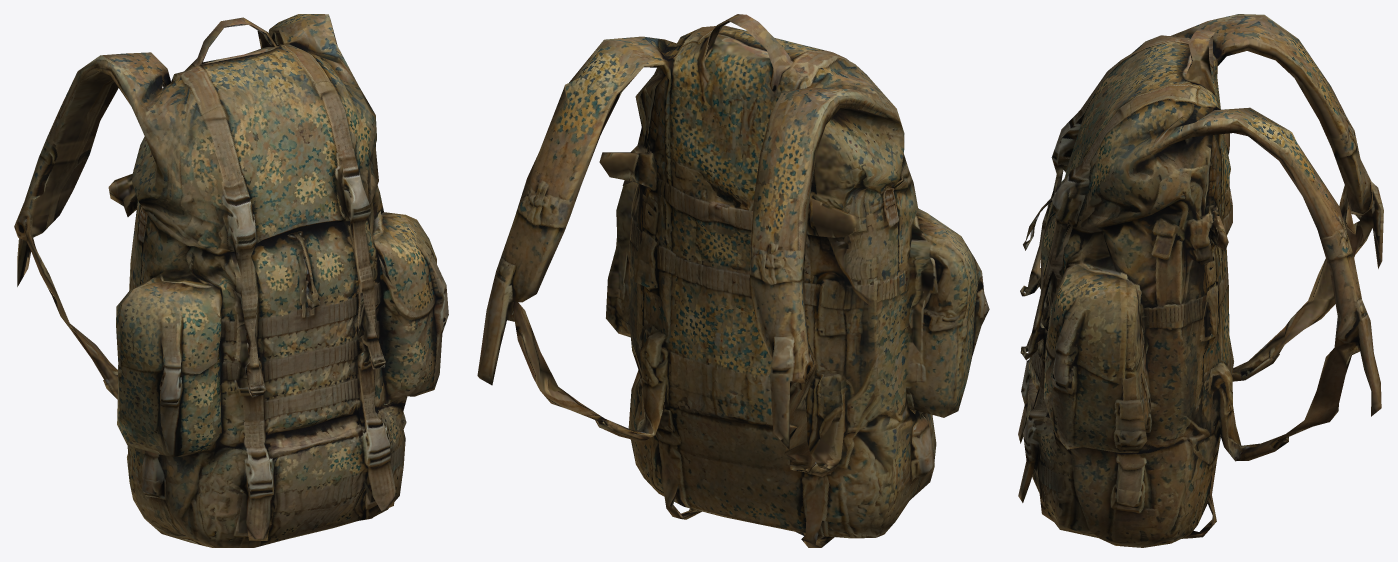
The model's file is Alice BackPack.fbx.
3 views of the same model, side by side, from view 1: azimuth 30°, elevation 25°; view 2: azimuth 150°, elevation 25°; view 3: azimuth 270°, elevation 25° (orthographic). The views are drawn at different scales.
Parts seen in each view (by area): view 1: texture_mapping; view 2: texture_mapping; view 3: texture_mapping.
Boxes of the visible parts, box(x1,y1,x2,y2) form: texture_mapping: box(14, 14, 448, 547); texture_mapping: box(477, 14, 989, 547); texture_mapping: box(1018, 14, 1383, 547).
Size of the model in its own units: 0.6988 by 0.6897 by 0.9927.
Materials: 1 (1 with a texture image).
